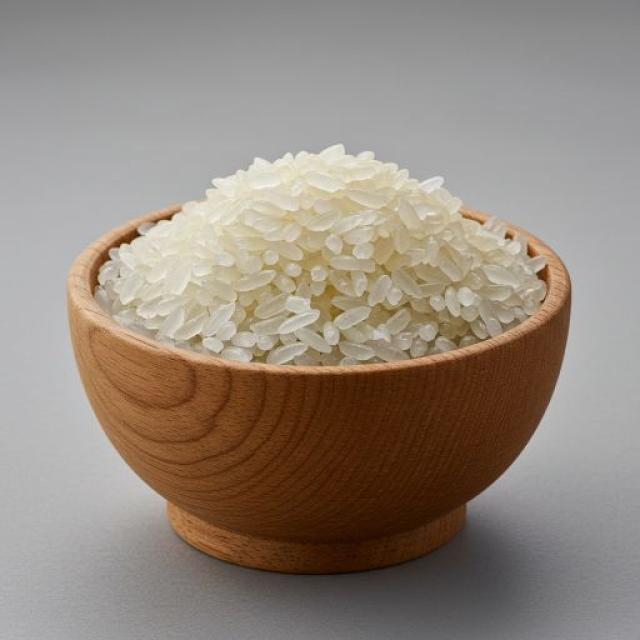rice: (95, 145, 546, 364)
